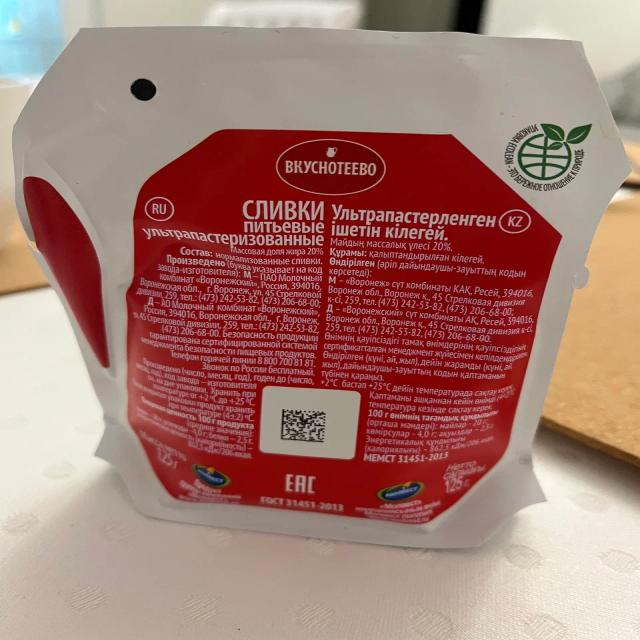datamatrix: (280, 407, 330, 447)
